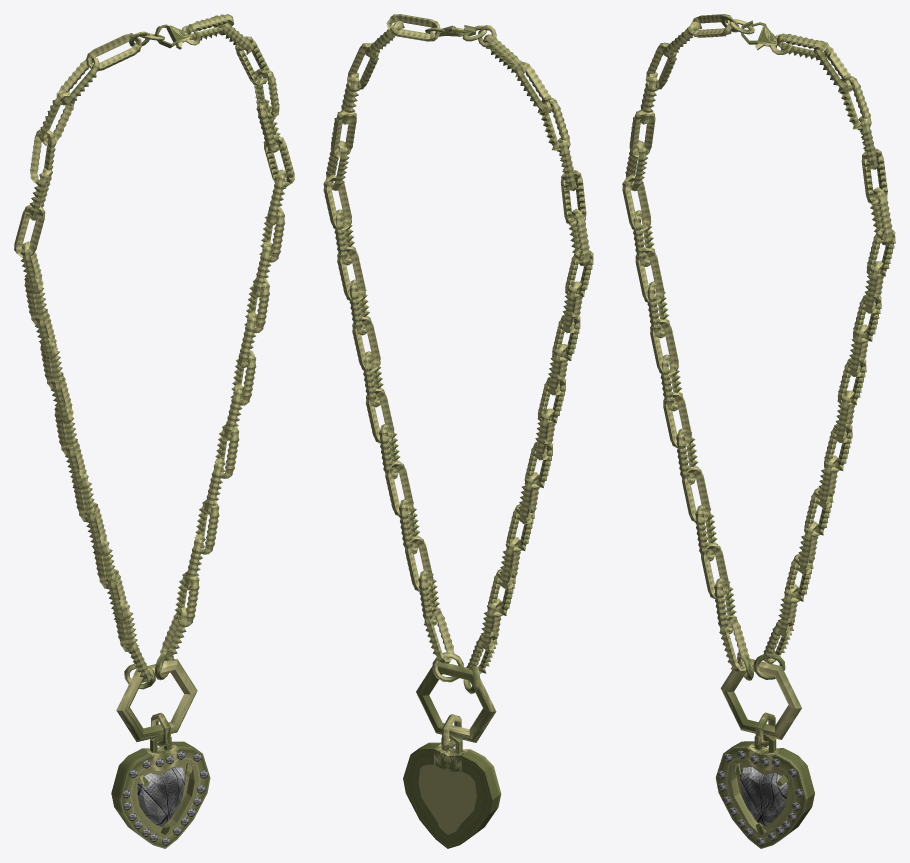
Rendered from AshleyClearStoneChoker.fbx.
The picture shows the model from 3 angles, left to right: view 1: azimuth 30°, elevation 25°; view 2: azimuth 150°, elevation 25°; view 3: azimuth 330°, elevation 25°; orthographic projection.
Visible parts, largest first — view 1: Ashley_Clear_Stone_Choker, pTorus5, Ashley_Clear_Stone_Choker2, Chainlinks66, Chainlinks65, Chainlinks64, Chainlinks61, Chainlinks63, Chainlinks59, Chainlinks57, Chainlinks18, Chainlinks60 (+27 smaller); view 2: Ashley_Clear_Stone_Choker, pTorus5, Chainlinks60, Chainlinks65, Chainlinks64, Chainlinks46, Chainlinks55, Chainlinks52, Chainlinks58, Chainlinks47, Chainlinks62, Chainlinks50 (+27 smaller); view 3: Ashley_Clear_Stone_Choker, pTorus5, Ashley_Clear_Stone_Choker2, Chainlinks46, Chainlinks74, Chainlinks79, Chainlinks44, Chainlinks77, Chainlinks67, Chainlinks71, Chainlinks69, Chainlinks18 (+28 smaller).
Part boxes in pixels (x1=…): Ashley_Clear_Stone_Choker: x1=111, y1=734, x2=210, y2=848; pTorus5: x1=116, y1=659, x2=197, y2=741; Ashley_Clear_Stone_Choker2: x1=137, y1=767, x2=185, y2=826; Chainlinks66: x1=86, y1=33, x2=141, y2=71; Chainlinks65: x1=56, y1=57, x2=100, y2=106; Chainlinks64: x1=39, y1=92, x2=74, y2=145; Chainlinks61: x1=14, y1=204, x2=45, y2=257; Chainlinks63: x1=30, y1=129, x2=56, y2=184; Chainlinks59: x1=174, y1=572, x2=199, y2=625; Chainlinks57: x1=194, y1=499, x2=219, y2=554; Chainlinks18: x1=263, y1=134, x2=294, y2=187; Chainlinks60: x1=160, y1=607, x2=188, y2=661; Ashley_Clear_Stone_Choker: x1=403, y1=735, x2=501, y2=848; pTorus5: x1=416, y1=662, x2=496, y2=742; Chainlinks60: x1=424, y1=607, x2=453, y2=663; Chainlinks65: x1=514, y1=62, x2=552, y2=113; Chainlinks64: x1=539, y1=96, x2=570, y2=152; Chainlinks46: x1=386, y1=14, x2=440, y2=41; Chainlinks55: x1=385, y1=461, x2=413, y2=516; Chainlinks52: x1=352, y1=316, x2=380, y2=371; Chainlinks58: x1=405, y1=536, x2=433, y2=591; Chainlinks47: x1=323, y1=175, x2=351, y2=230; Chainlinks62: x1=560, y1=169, x2=586, y2=227; Chainlinks50: x1=337, y1=246, x2=365, y2=300; Ashley_Clear_Stone_Choker: x1=715, y1=734, x2=814, y2=848; pTorus5: x1=720, y1=657, x2=801, y2=739; Ashley_Clear_Stone_Choker2: x1=740, y1=767, x2=787, y2=826; Chainlinks46: x1=777, y1=33, x2=831, y2=60; Chainlinks74: x1=682, y1=466, x2=710, y2=522; Chainlinks79: x1=719, y1=615, x2=749, y2=672; Chainlinks44: x1=839, y1=75, x2=871, y2=130; Chainlinks77: x1=701, y1=543, x2=729, y2=598; Chainlinks67: x1=622, y1=175, x2=650, y2=231; Chainlinks71: x1=650, y1=319, x2=678, y2=375; Chainlinks69: x1=635, y1=247, x2=664, y2=303; Chainlinks18: x1=870, y1=187, x2=893, y2=245.
Size of the model in its own units: 4.28 by 12.46 by 0.6324.
